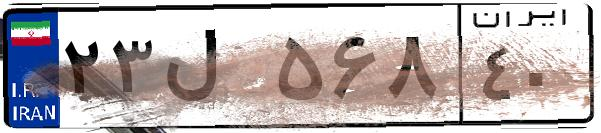0: (525, 38, 570, 115)
2: (57, 26, 110, 100)
3: (110, 28, 158, 98)
4: (475, 38, 525, 113)
5: (270, 28, 330, 110)
6: (330, 28, 385, 110)
8: (385, 28, 445, 110)
ل: (158, 20, 270, 120)
